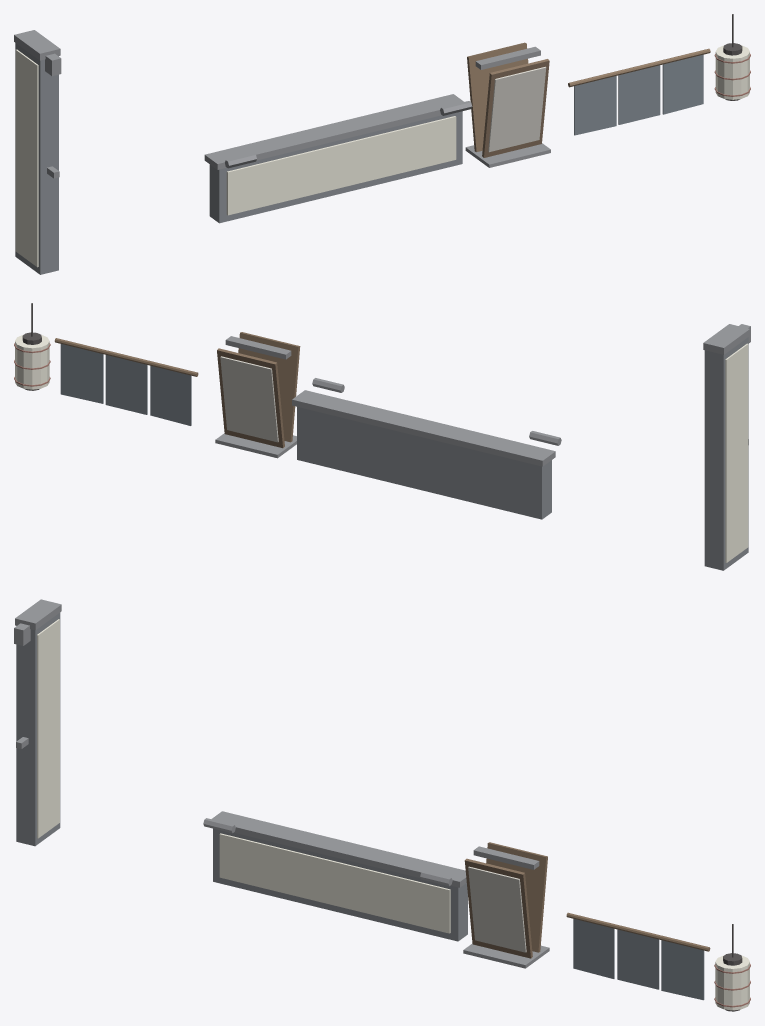
The model's file is Prop_SignageSet.fbx.
3 renders of one model, top to bottom at view 1: azimuth 30°, elevation 25°; view 2: azimuth 150°, elevation 25°; view 3: azimuth 330°, elevation 25°, orthographic.
Visible parts, largest first — view 1: Prop_Sign_Horizontal, Prop_Sign_Vertical, Prop_Sign_Standing, Prop_Noren, Prop_Lantern; view 2: Prop_Sign_Horizontal, Prop_Sign_Vertical, Prop_Sign_Standing, Prop_Noren, Prop_Lantern; view 3: Prop_Sign_Horizontal, Prop_Sign_Vertical, Prop_Sign_Standing, Prop_Noren, Prop_Lantern.
Part boxes in pixels (box(x1,y1,x2,y2)): Prop_Sign_Horizontal: box(204, 94, 472, 223); Prop_Sign_Vertical: box(14, 30, 61, 274); Prop_Sign_Standing: box(465, 42, 550, 167); Prop_Noren: box(568, 48, 710, 135); Prop_Lantern: box(714, 14, 750, 100); Prop_Sign_Horizontal: box(292, 378, 561, 519); Prop_Sign_Vertical: box(703, 324, 750, 570); Prop_Sign_Standing: box(215, 332, 300, 458); Prop_Noren: box(54, 338, 198, 425); Prop_Lantern: box(14, 303, 50, 390); Prop_Sign_Horizontal: box(203, 811, 467, 941); Prop_Sign_Vertical: box(14, 599, 61, 846); Prop_Sign_Standing: box(463, 842, 549, 968); Prop_Noren: box(566, 912, 710, 1000); Prop_Lantern: box(714, 924, 750, 1011).
Bounding box in the file's own units: 768 × 227 × 60.
